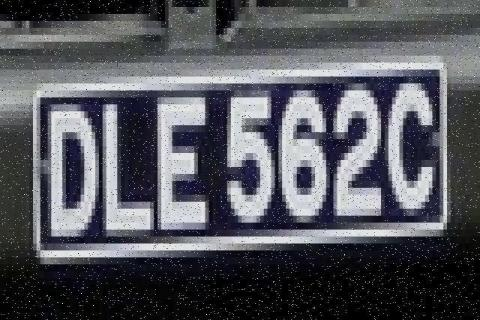LicensePlate: (22, 35, 464, 279)
